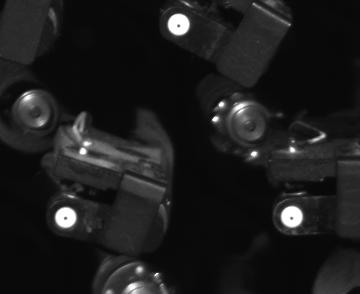fiber: (163, 9, 198, 42), (49, 203, 83, 236), (276, 201, 309, 233)
